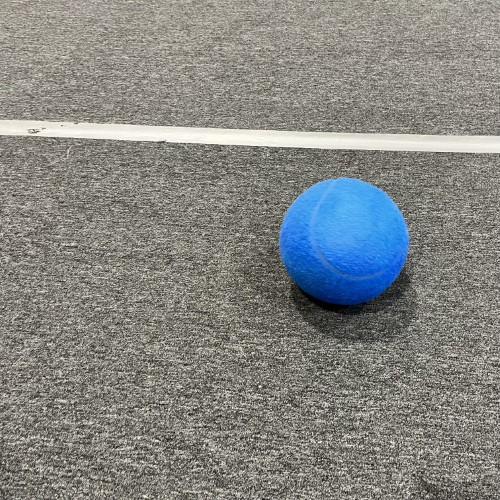blue: (276, 174, 412, 308)
